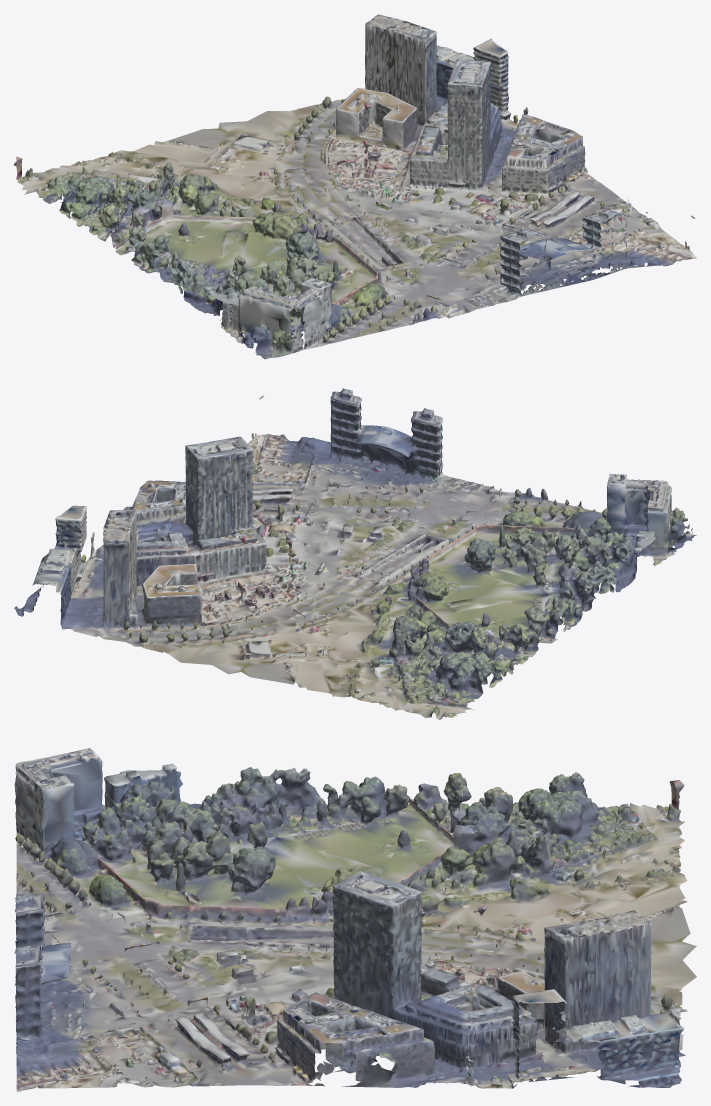
The model's file is surface-detail-3890_58207.glb.
3 views of the same model, one above another, from view 1: azimuth 30°, elevation 25°; view 2: azimuth 150°, elevation 25°; view 3: azimuth 270°, elevation 25° (orthographic). The views are drawn at different scales.
Parts seen in each view (by area): view 1: world; view 2: world; view 3: world.
Boxes of the visible parts, <box> form: world: <box>14,14,696,359</box>; world: <box>14,388,696,719</box>; world: <box>14,748,696,1091</box>.
Size of the model in its own units: 369 by 91.12 by 371.
